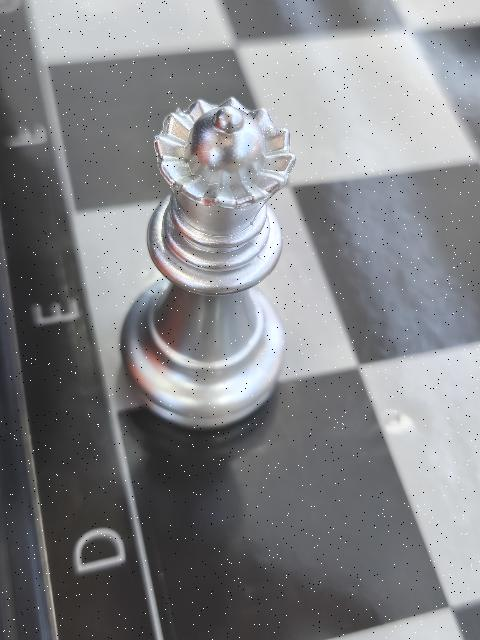white_queen: (119, 91, 298, 428)
